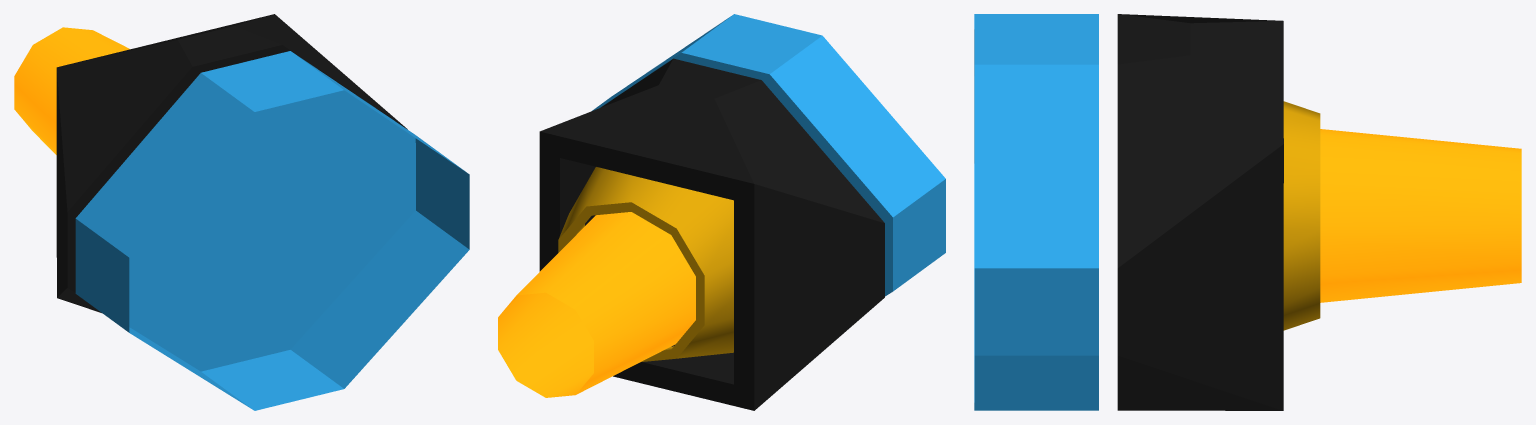
File: teleport.glb
3 renders of one model, left to right at view 1: azimuth 30°, elevation 25°; view 2: azimuth 150°, elevation 25°; view 3: azimuth 270°, elevation 25°, orthographic. The views are drawn at different scales.
Parts seen in each view (by area): view 1: Plane.004, boost-part.004; view 2: Plane.004, boost-part.004; view 3: Plane.004, boost-part.004.
Boxes of the visible parts, x1=… form: Plane.004: x1=56, y1=14, x2=469, y2=410; boost-part.004: x1=14, y1=27, x2=129, y2=154; Plane.004: x1=539, y1=14, x2=945, y2=410; boost-part.004: x1=498, y1=212, x2=695, y2=397; Plane.004: x1=974, y1=14, x2=1320, y2=410; boost-part.004: x1=1320, y1=129, x2=1521, y2=302.
Size of the model in its own units: 0.1527 by 0.1281 by 0.1837.
